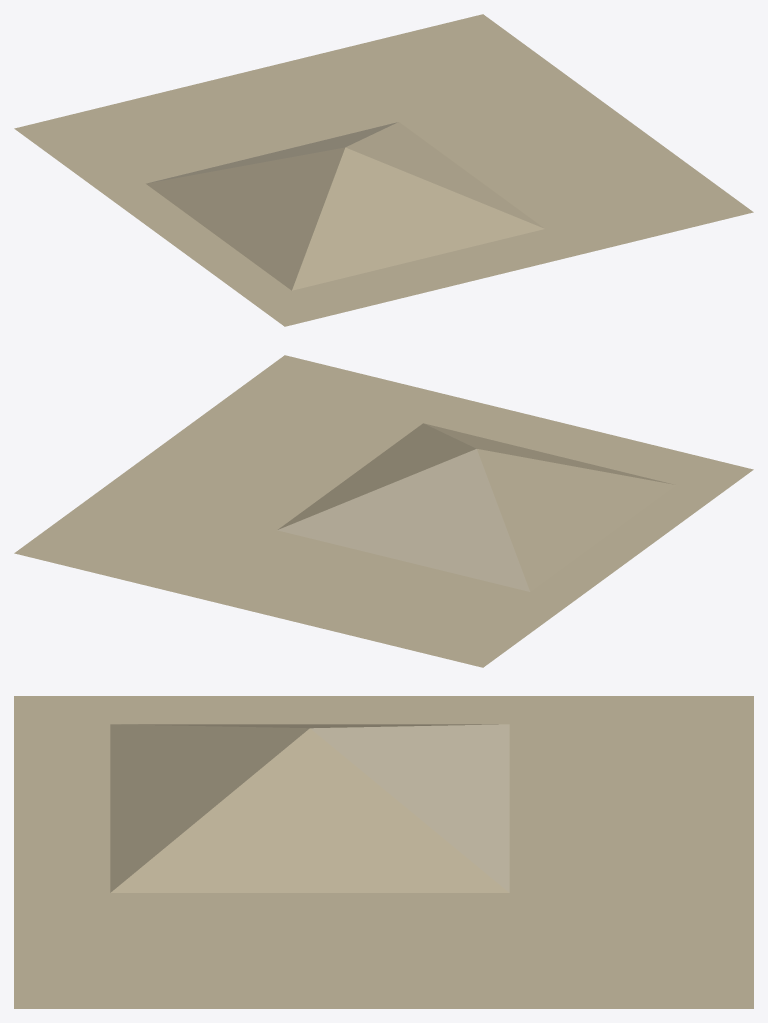
File: desert.gltf
The picture shows the model from 3 angles, top to bottom: view 1: azimuth 30°, elevation 25°; view 2: azimuth 150°, elevation 25°; view 3: azimuth 270°, elevation 25°; orthographic projection. The views are drawn at different scales.
Visible parts, largest first — view 1: terrain-desert; view 2: terrain-desert; view 3: terrain-desert.
Boxes of the visible parts, bbox=[...] form: terrain-desert: bbox=[14, 14, 753, 326]; terrain-desert: bbox=[14, 355, 753, 667]; terrain-desert: bbox=[14, 696, 753, 1008].
Size of the model in its own units: 1 by 0.12 by 1.
